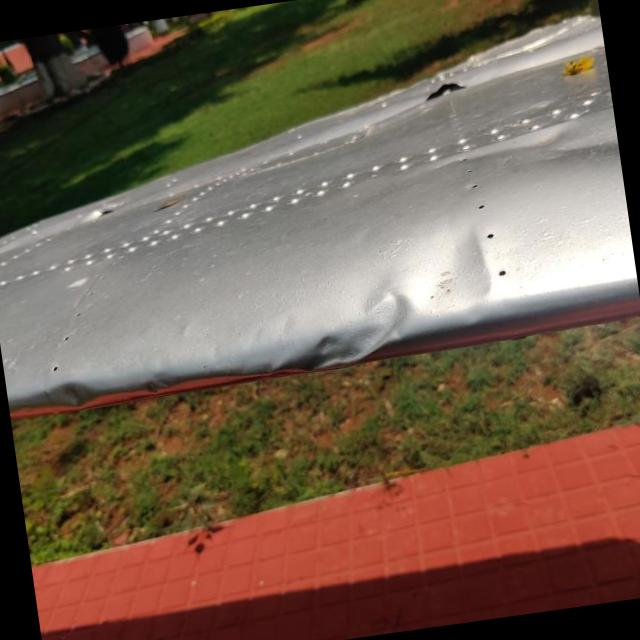Dent: (421, 108, 622, 192), (262, 291, 412, 376), (39, 381, 102, 414)
